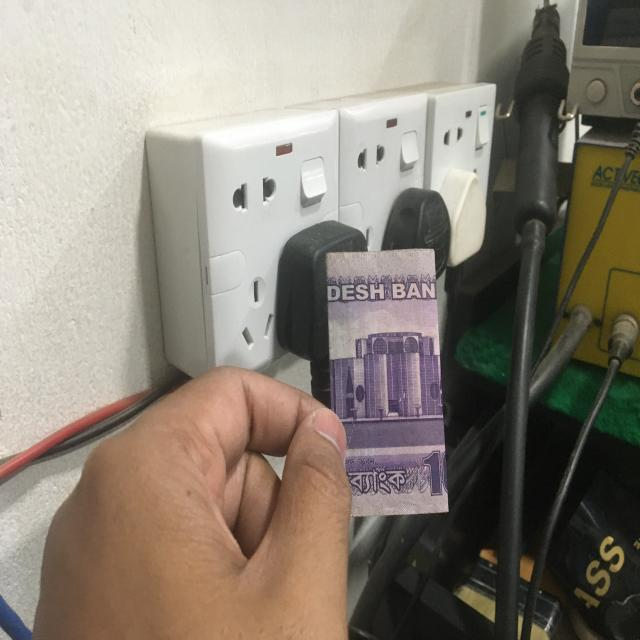Taka: (327, 245, 450, 516)
